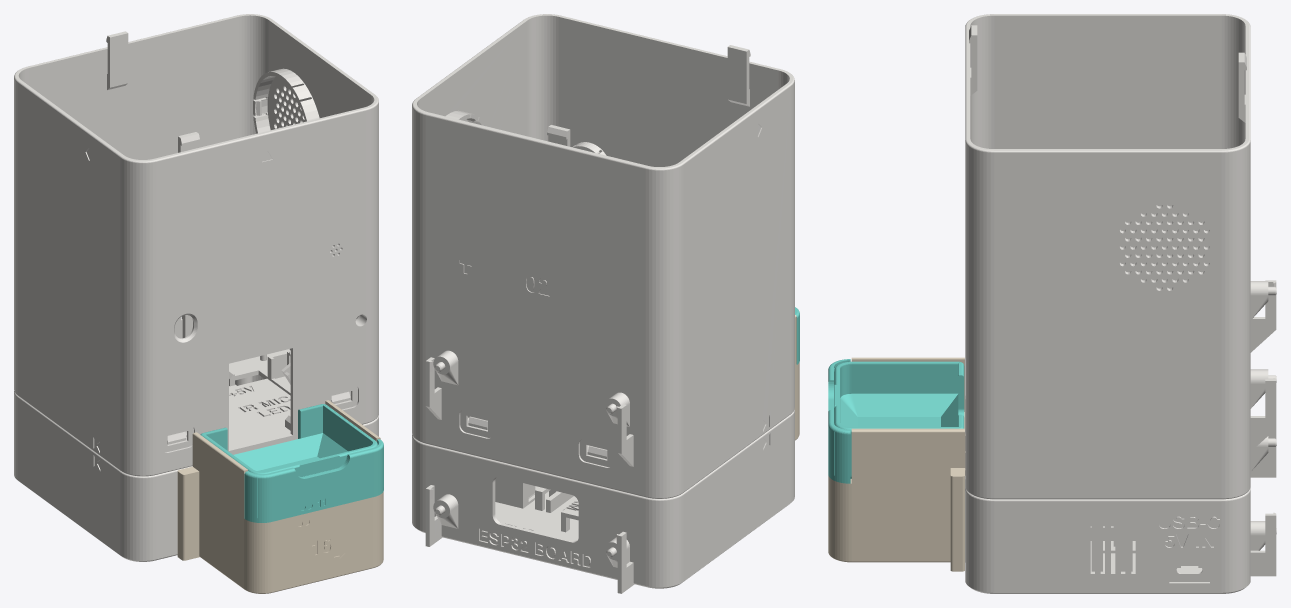
Rendered from a4_bowl.glb.
3 renders of one model, left to right at view 1: azimuth 30°, elevation 25°; view 2: azimuth 150°, elevation 25°; view 3: azimuth 270°, elevation 25°, orthographic. The views are drawn at different scales.
Visible parts, largest first — view 1: 02_body, 16_bowl_bay, 01_base_bay, 11_treat_tray; view 2: 02_body, 01_base_bay; view 3: 02_body, 01_base_bay, 16_bowl_bay, 11_treat_tray.
Boxes of the visible parts, x1,y1,x2,y2 form: 02_body: (14, 14, 378, 476); 16_bowl_bay: (177, 400, 383, 593); 01_base_bay: (14, 315, 378, 561); 11_treat_tray: (200, 404, 383, 522); 02_body: (412, 14, 794, 498); 01_base_bay: (412, 410, 794, 593); 02_body: (965, 14, 1276, 499); 01_base_bay: (965, 396, 1276, 593); 16_bowl_bay: (828, 357, 965, 571); 11_treat_tray: (828, 359, 964, 483).
Size of the model in its own units: 0.112 by 0.1737 by 0.1539.
